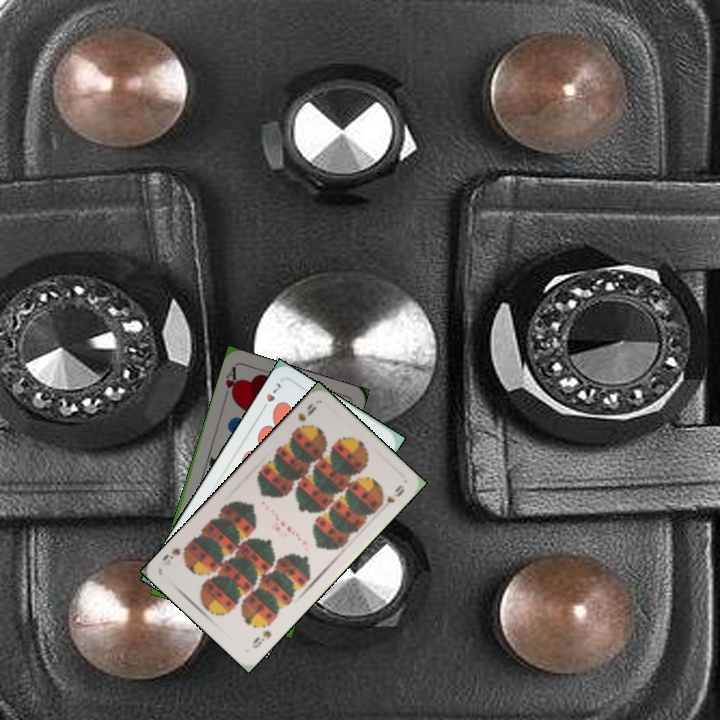H7: (257, 378, 285, 414)
HA: (220, 363, 241, 403)
S9: (290, 399, 319, 434), (248, 626, 274, 651)
